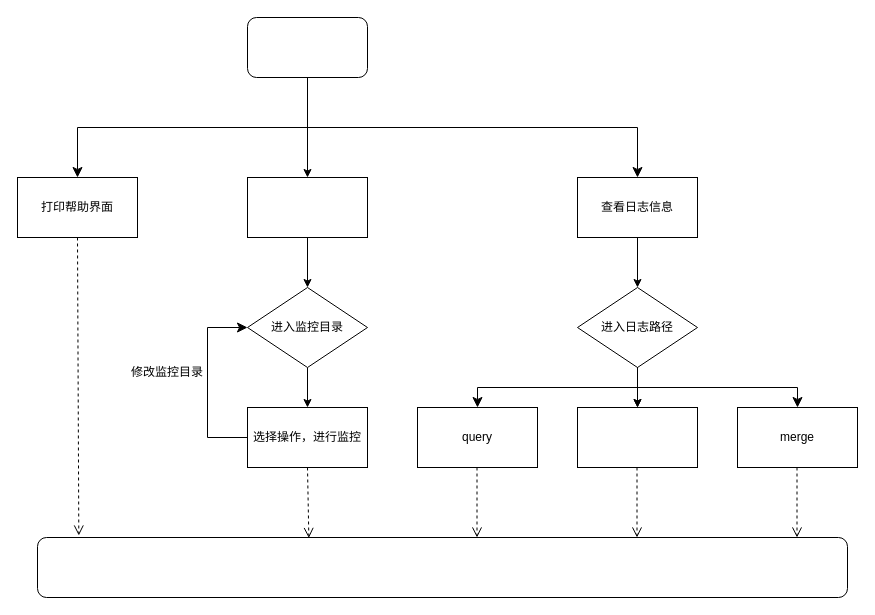
Image size: 875x615. Some labels were removed from this diagram. The shapes that lost their labels are listed below. From the top down, each one's centre as x and y in pixels, then its label:
pixel 307 47: 开始
pixel 307 207: 监听
pixel 637 437: sort
pixel 442 567: 结束
